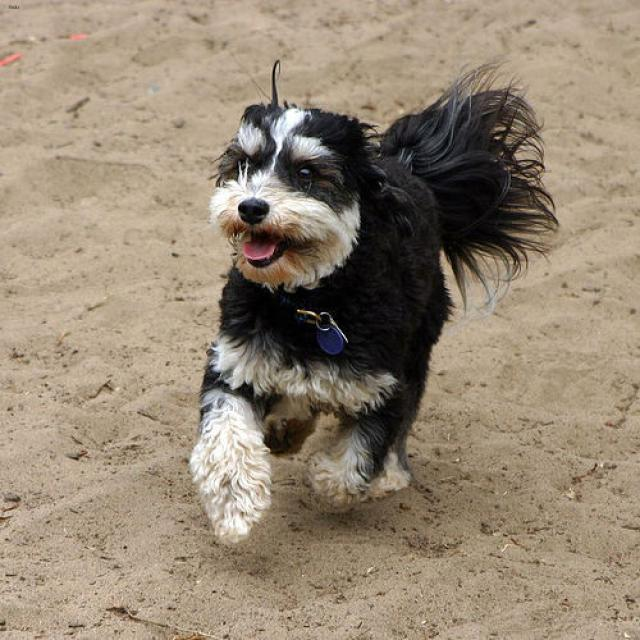dog-havanese: (178, 46, 568, 553)
